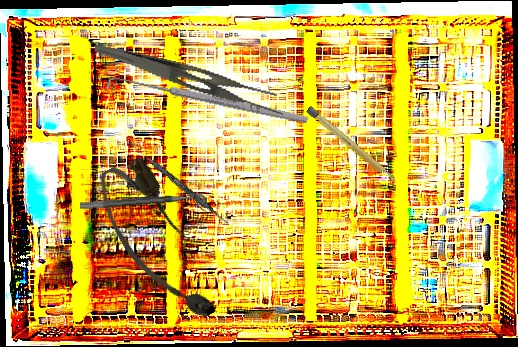Cannula: (87, 151, 227, 336)
Dressing Forceps: (89, 43, 289, 118)
Fixation Ring: (79, 192, 208, 221)
Hook Surgical: (104, 70, 310, 134)
Scalpel Handle: (305, 105, 398, 185)
Spatula Surgical: (125, 140, 233, 227)
